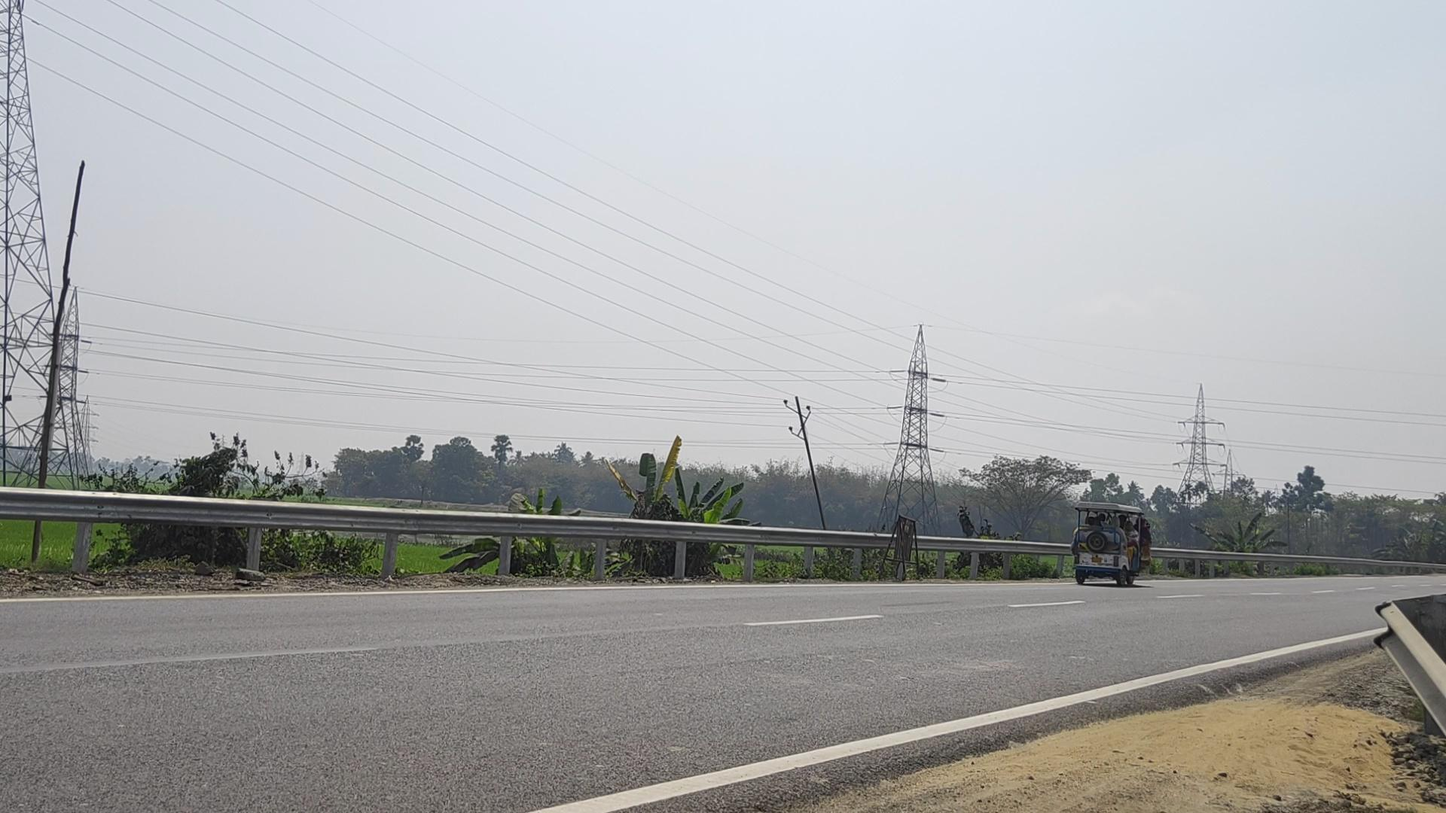Auto: (1072, 501, 1152, 586)
